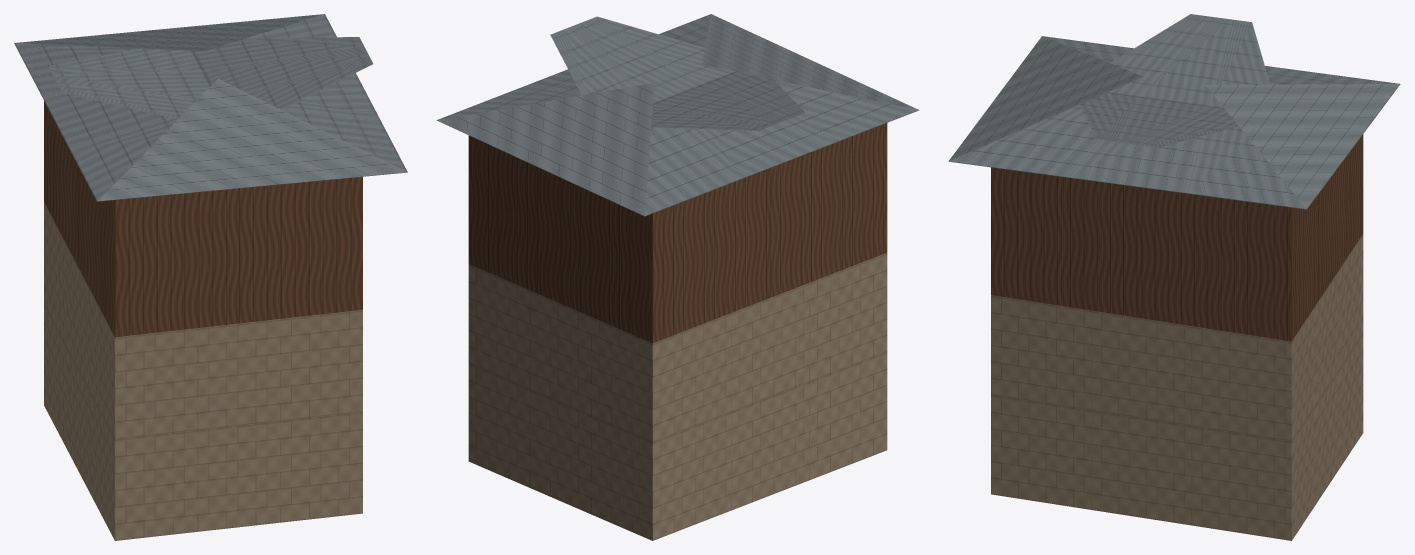
The model's file is bld_c30_-38_469.gltf.
3 views of the same model, side by side, from view 1: azimuth 30°, elevation 25°; view 2: azimuth 150°, elevation 25°; view 3: azimuth 270°, elevation 25° (orthographic). The views are drawn at different scales.
Parts seen in each view (by area): view 1: bld_c30_-38_469; view 2: bld_c30_-38_469; view 3: bld_c30_-38_469.
Part boxes in pixels (<box>): bld_c30_-38_469: <box>14,14,407,540</box>; bld_c30_-38_469: <box>436,14,918,540</box>; bld_c30_-38_469: <box>948,14,1400,540</box>.
Bounding box in the file's own units: 8.87 × 9.2 × 9.78.
3 materials, 3 textured.
